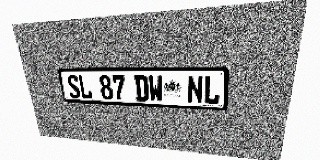7: (111, 75, 127, 100)
8: (98, 75, 114, 100)
D: (134, 75, 149, 101)
L: (203, 75, 221, 104), (77, 75, 93, 99)
N: (187, 75, 203, 104)
S: (66, 75, 81, 99)
W: (148, 75, 163, 102)
